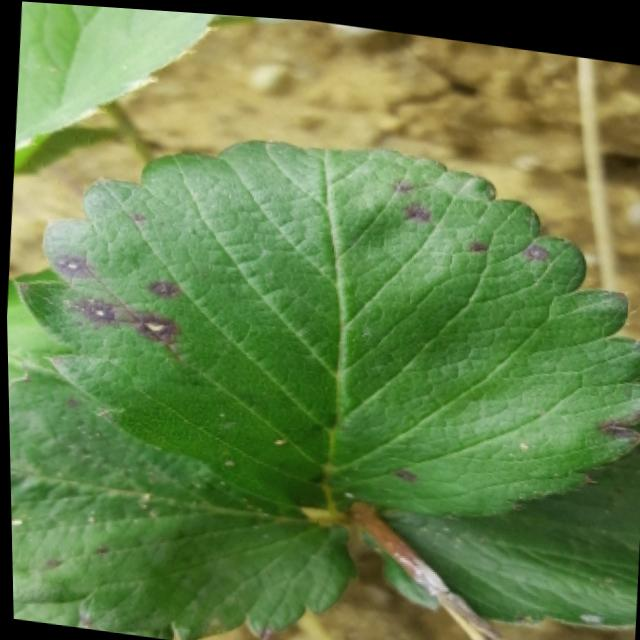Leaf Spot: (11, 132, 640, 513), (7, 363, 348, 640), (353, 432, 640, 620)
